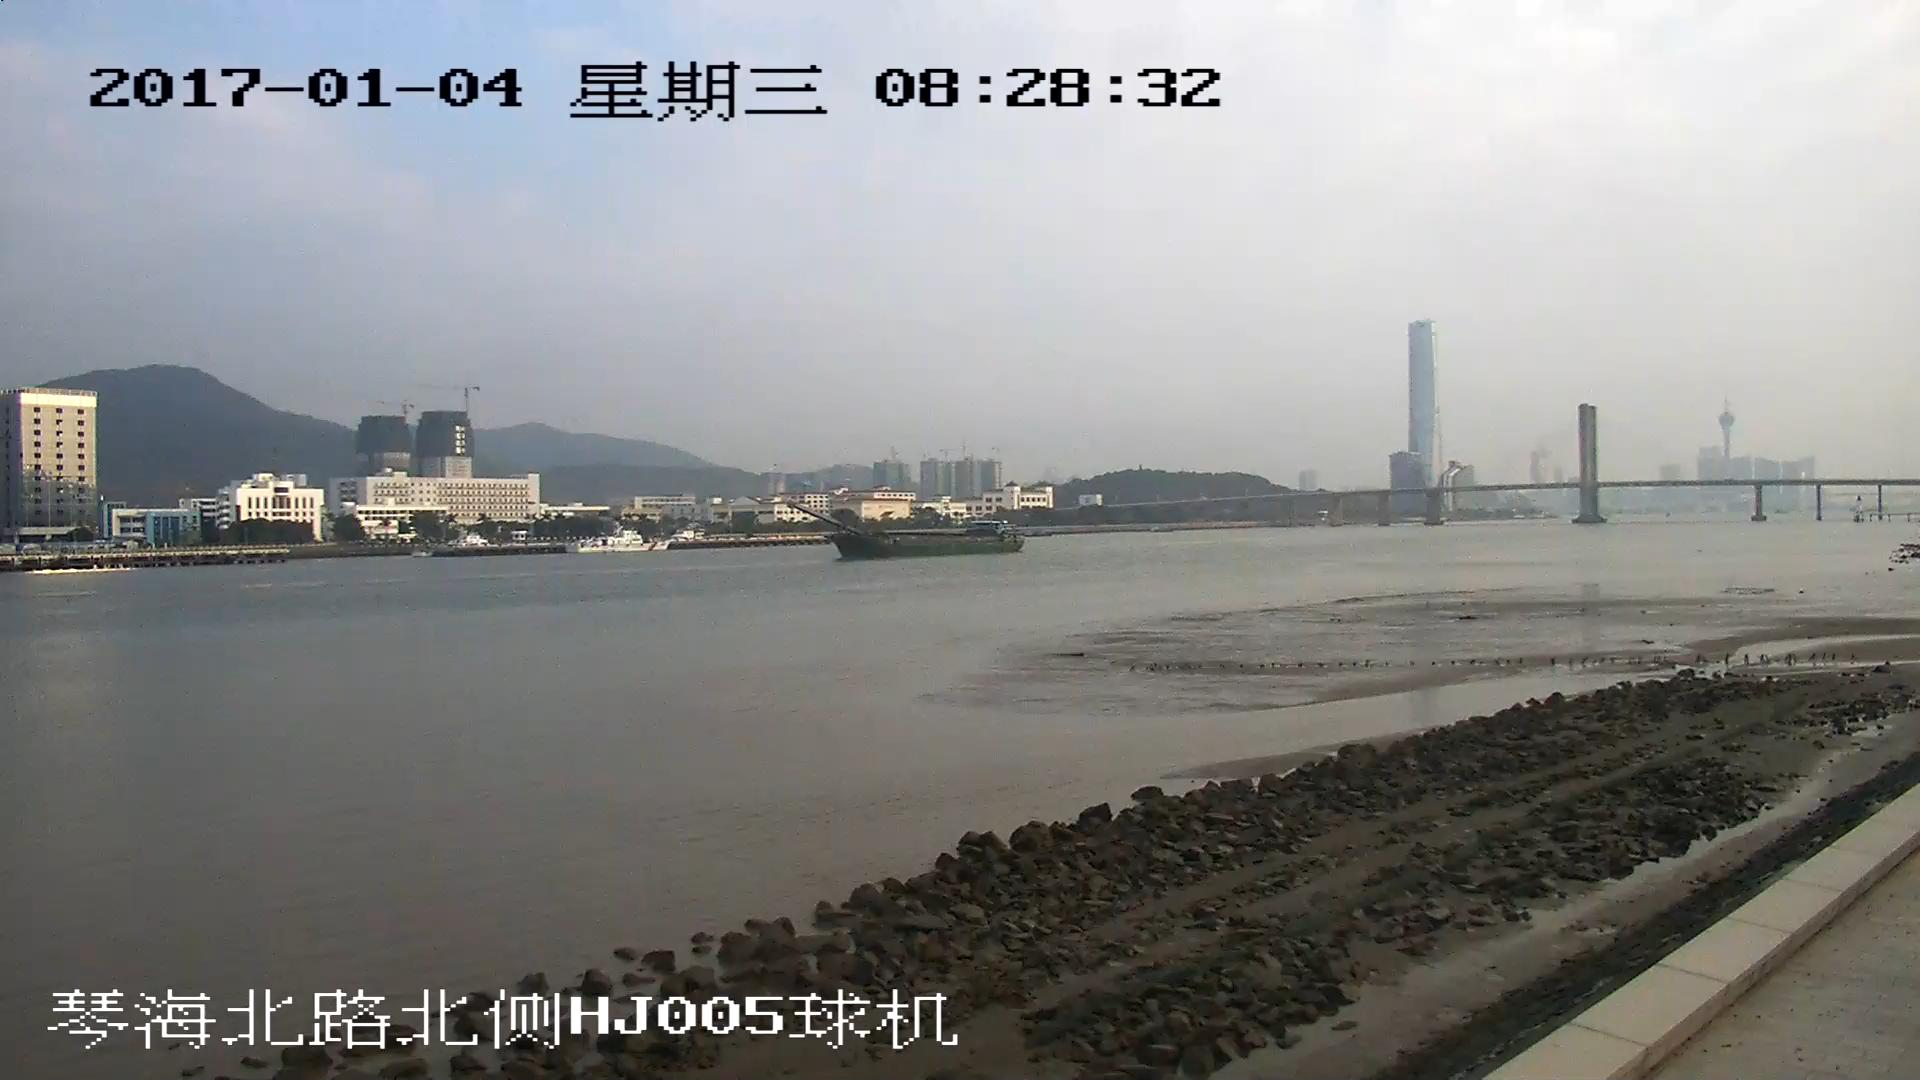bulk cargo carrier: (789, 500, 1021, 553)
